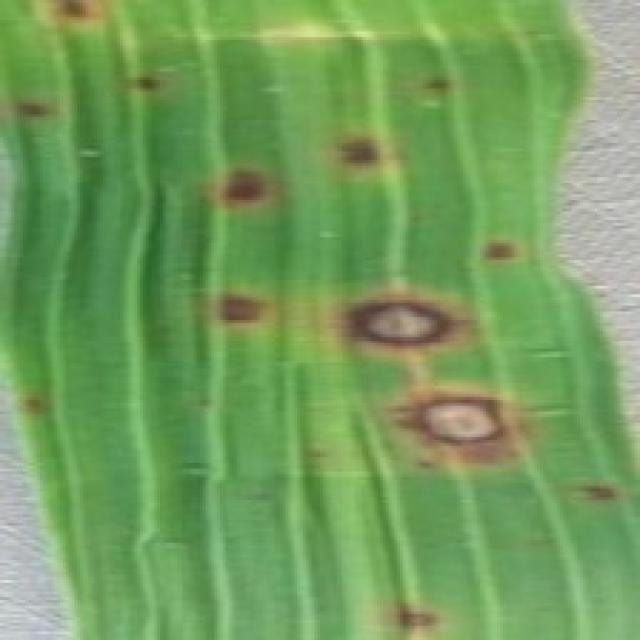Rice___Brown_Spot: (0, 0, 637, 637)
